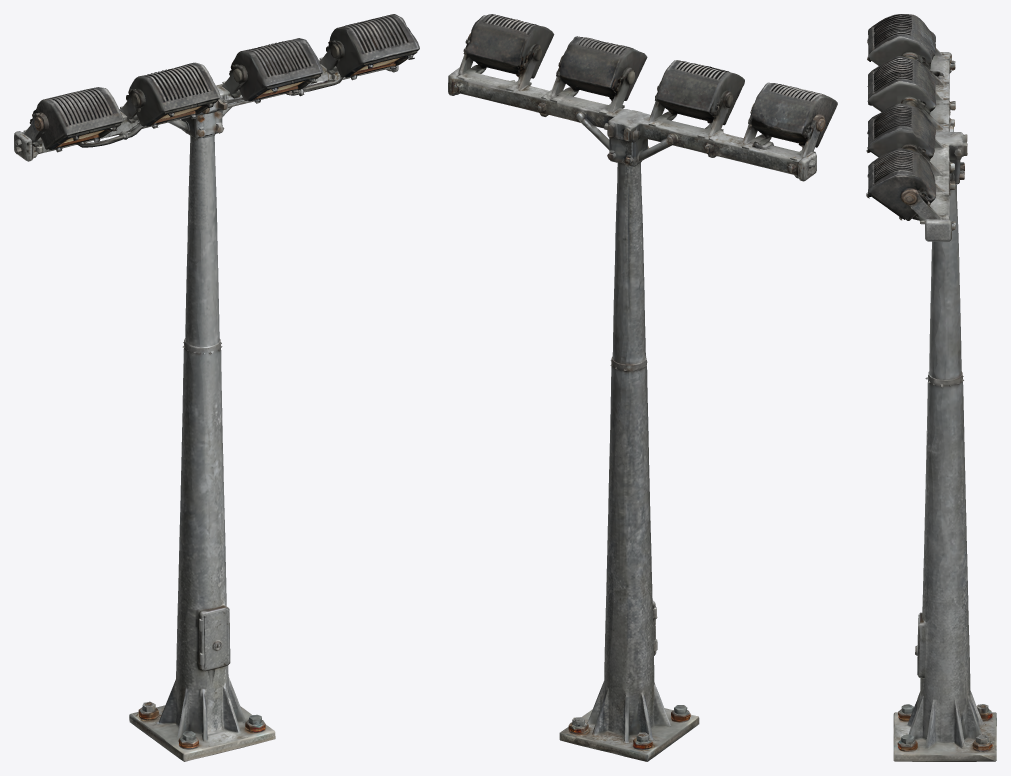
Rendered from floodlight-mast.glb.
3 renders of one model, left to right at view 1: azimuth 30°, elevation 25°; view 2: azimuth 150°, elevation 25°; view 3: azimuth 270°, elevation 25°, orthographic. The views are drawn at different scales.
Parts seen in each view (by area): view 1: floodlight-mast; view 2: floodlight-mast; view 3: floodlight-mast.
Boxes of the visible parts, x1=… form: floodlight-mast: x1=14, y1=14, x2=419, y2=761; floodlight-mast: x1=448, y1=14, x2=837, y2=761; floodlight-mast: x1=866, y1=14, x2=996, y2=761.
Size of the model in its own units: 6.86 by 12 by 2.19.
Materials: 1 (1 with a texture image).
